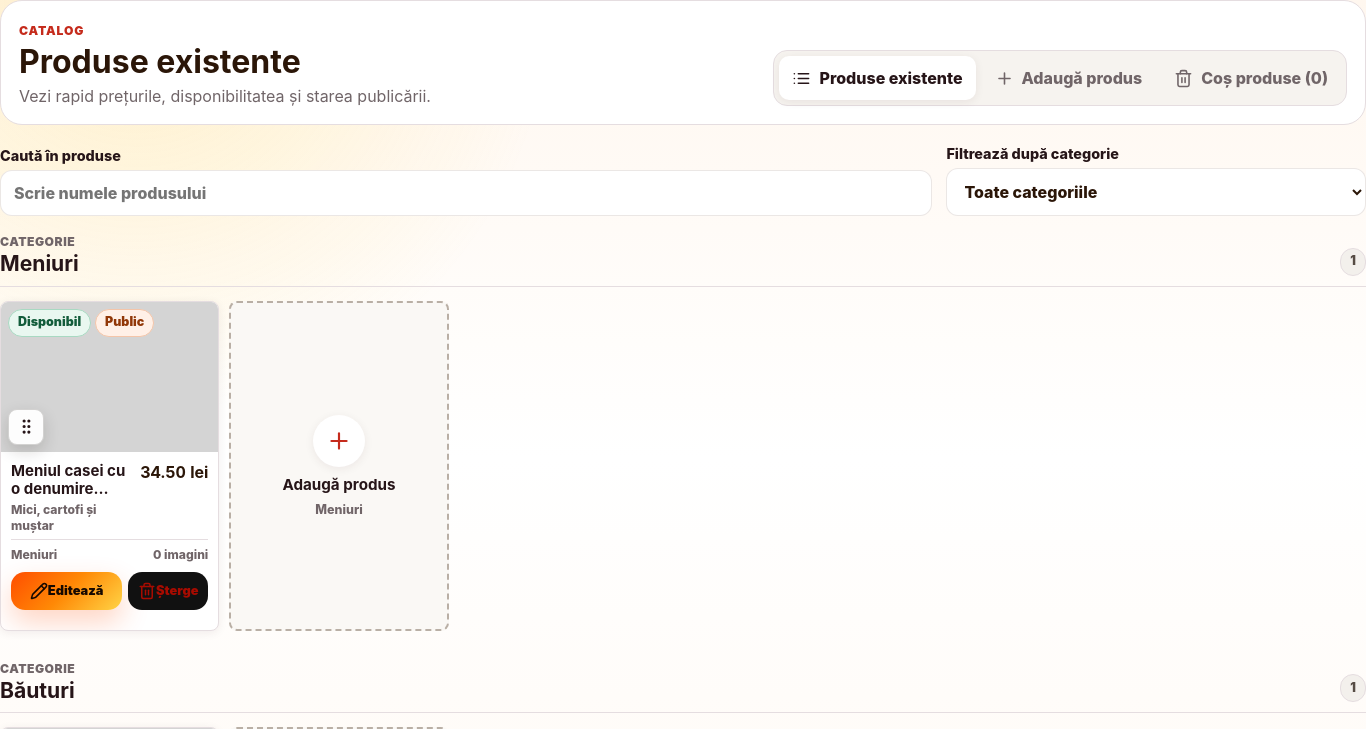
Test: ProductsPanel › filters the catalog by category
Select "Băuturi" in the dropdown labelled "Filtrează după categorie": (1156, 192) [946,168,1365,216]
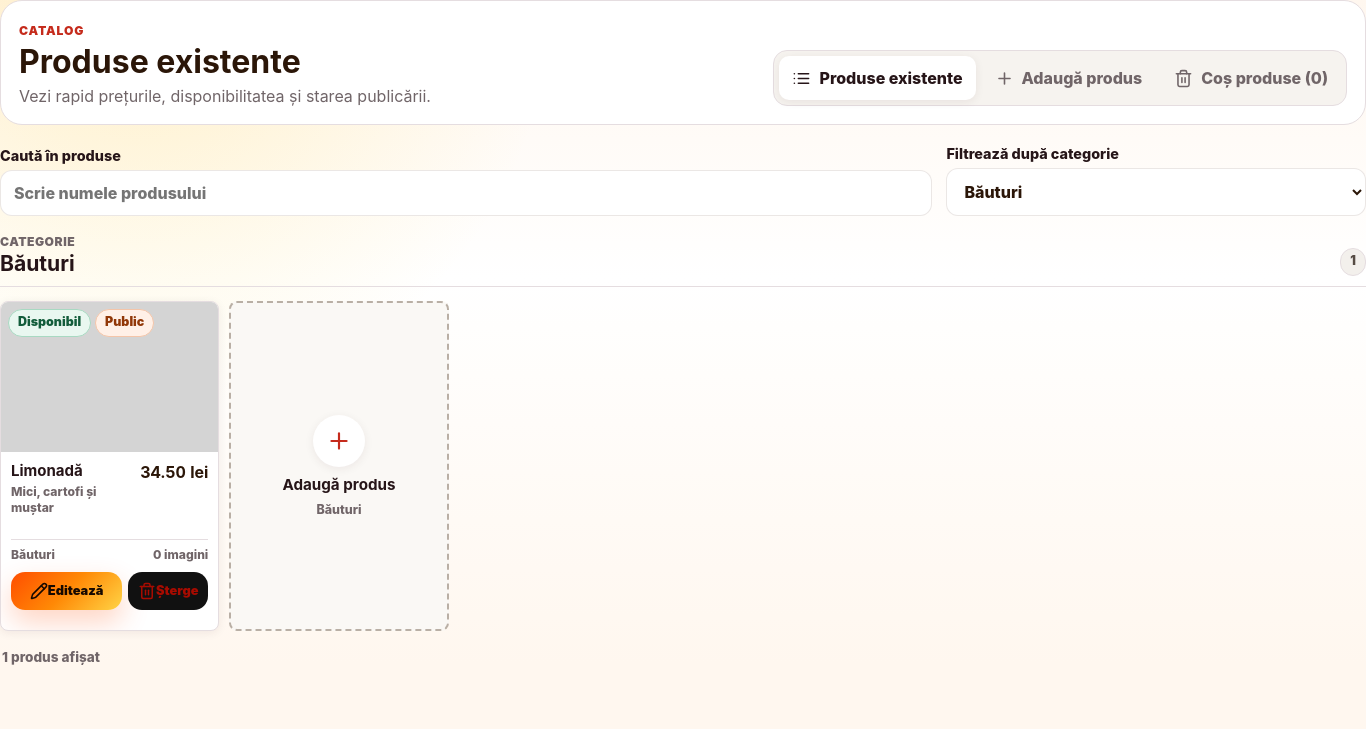
Expected: the element "Limonadă" is shown, [0,301,219,631]
Result: the heading "Meniul casei cu o denumire lungă" is gone
Result: the text "1 produs afișat" is shown at [2,649,100,665]
